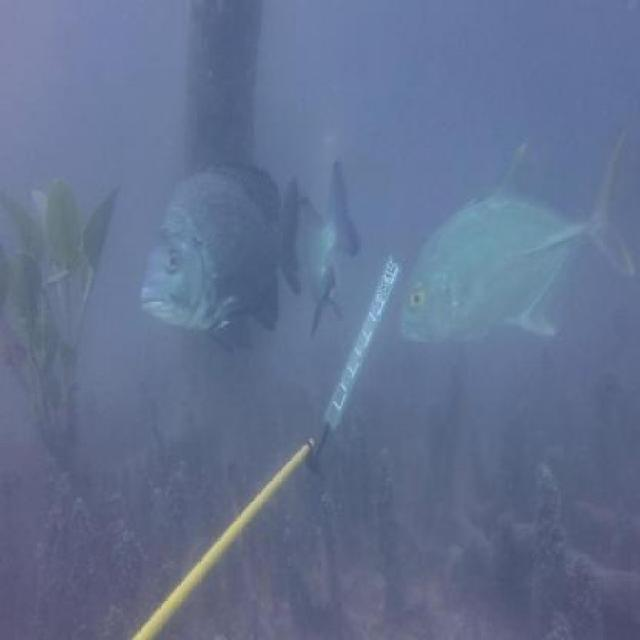Caranx: (398, 122, 637, 350)
acanthopagrus_palmaris: (136, 148, 298, 361), (294, 148, 364, 337)
